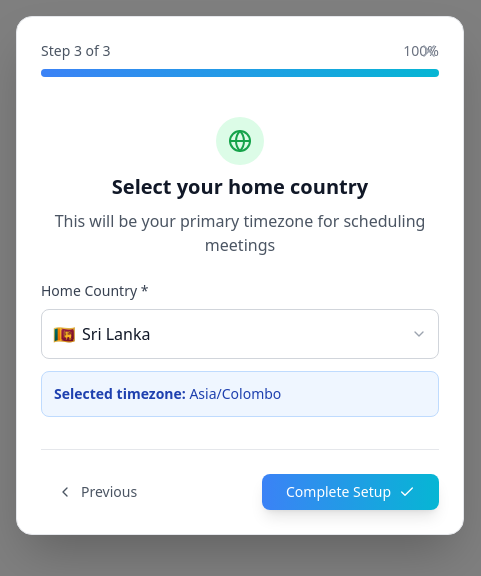
Test: WelcomeModal › Step 3 - Home Country Selection › should show loading state during completion
This screenshot has width=481, height=576.
Click the button "Complete Setup": (350, 492) x1=262 y1=474 x2=439 y2=510
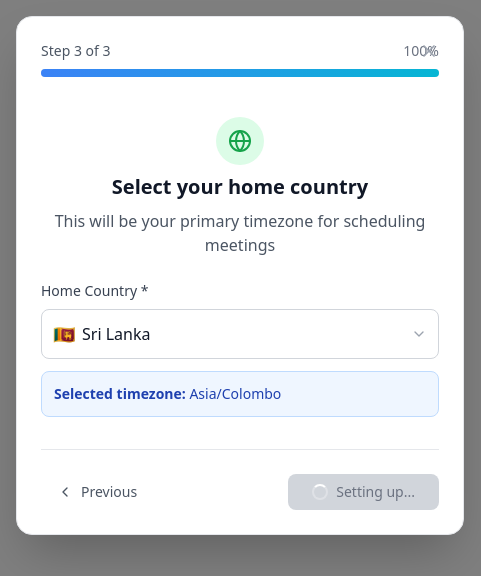
Expected: the button "Setting up..." is disabled, x1=288 y1=474 x2=439 y2=510
